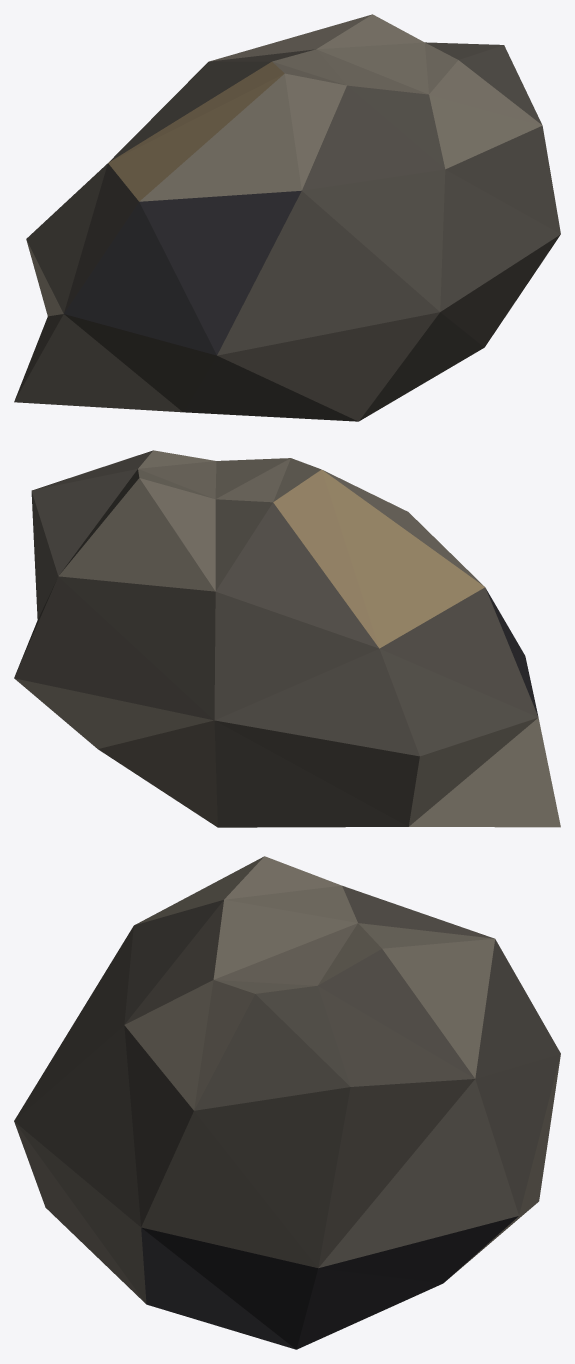
The model's file is SM_Rock_C.fbx.
3 renders of one model, top to bottom at view 1: azimuth 30°, elevation 25°; view 2: azimuth 150°, elevation 25°; view 3: azimuth 270°, elevation 25°, orthographic. The views are drawn at different scales.
Visible parts, largest first — view 1: SM_Rock_C; view 2: SM_Rock_C; view 3: SM_Rock_C.
Boxes of the visible parts, x1=… form: SM_Rock_C: x1=14, y1=14, x2=560, y2=421; SM_Rock_C: x1=14, y1=450, x2=560, y2=827; SM_Rock_C: x1=14, y1=856, x2=560, y2=1349.
Size of the model in its own units: 4 by 2.1 by 2.9.
